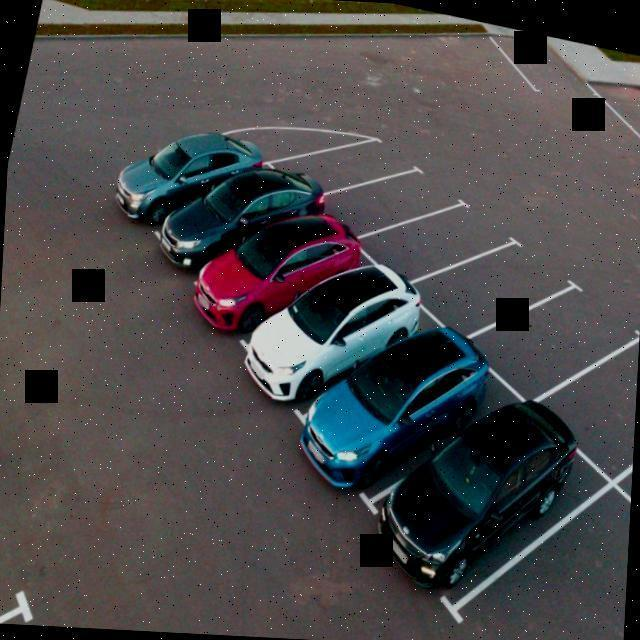space-empty: (456, 466, 632, 640), (463, 263, 640, 410), (412, 218, 579, 344), (359, 173, 515, 294), (542, 318, 640, 478), (332, 143, 448, 257), (281, 101, 400, 211)
space-occupied: (369, 374, 581, 610), (311, 308, 495, 523), (240, 242, 421, 442), (193, 186, 358, 358), (140, 149, 307, 306), (110, 118, 241, 255)
